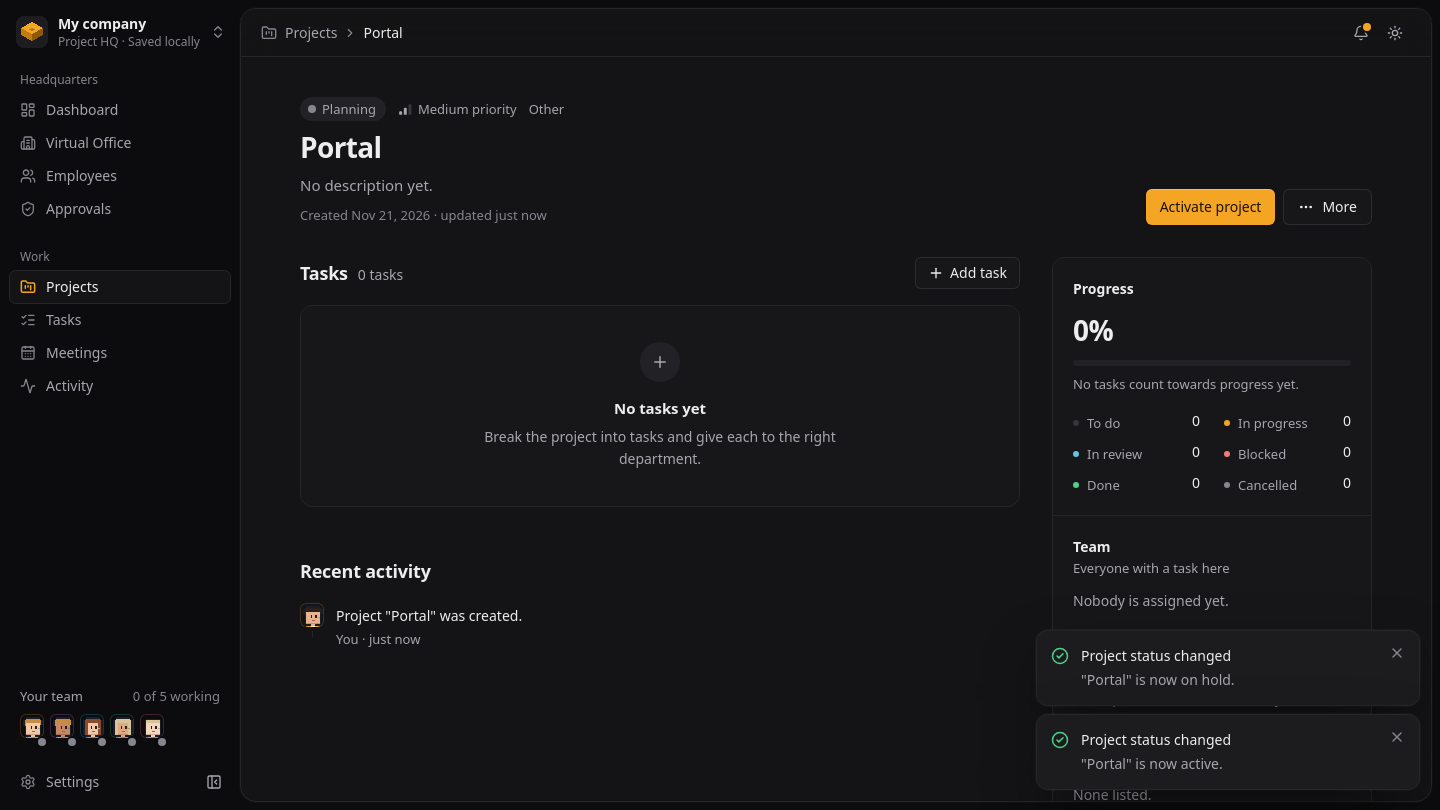
Test case: project details and lifecycle › edits project details
Click the button with aria-label "More project actions" at x=1328, y=207, box [1283,189,1372,225]
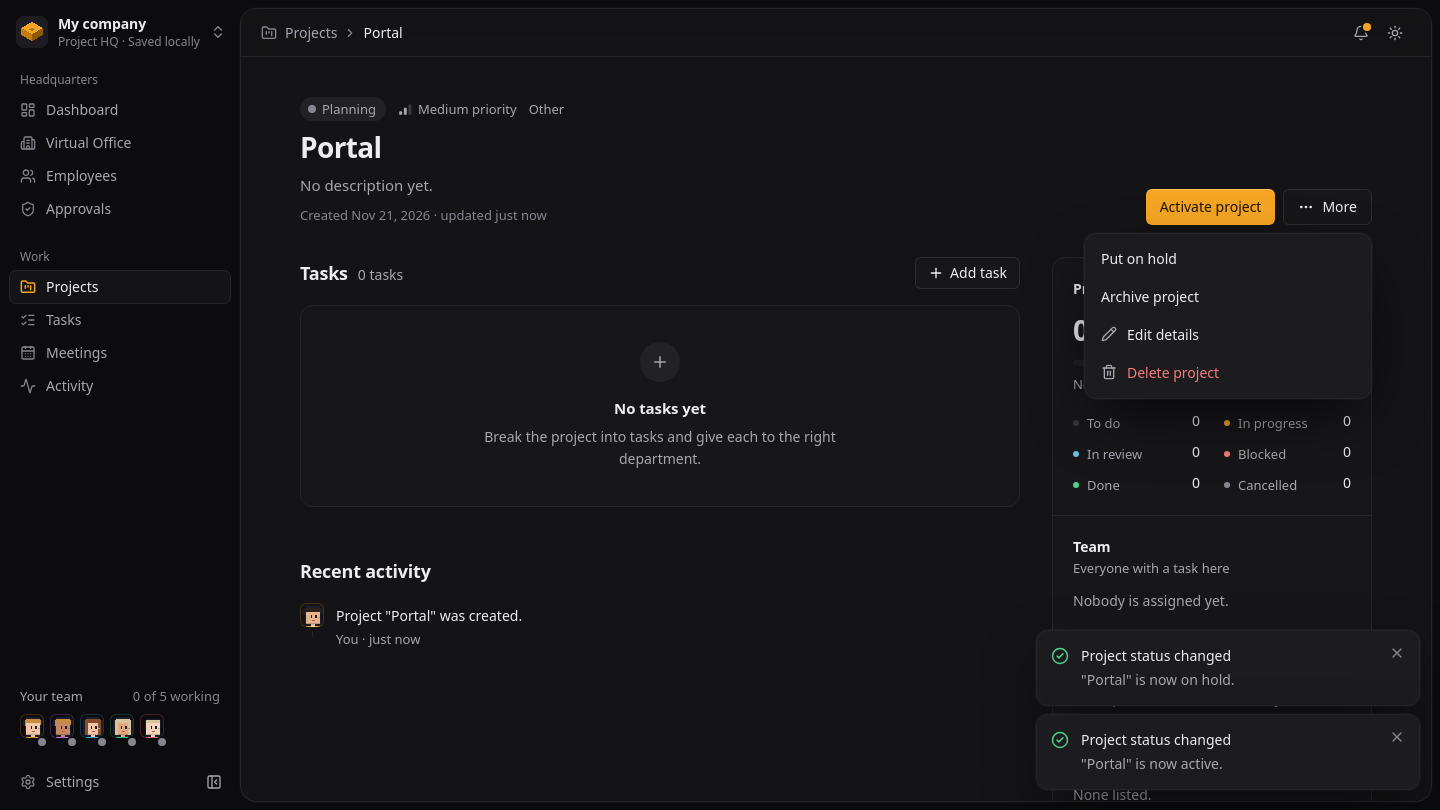
Click the menu item "Edit details" at x=1163, y=334, box [1091,316,1365,354]
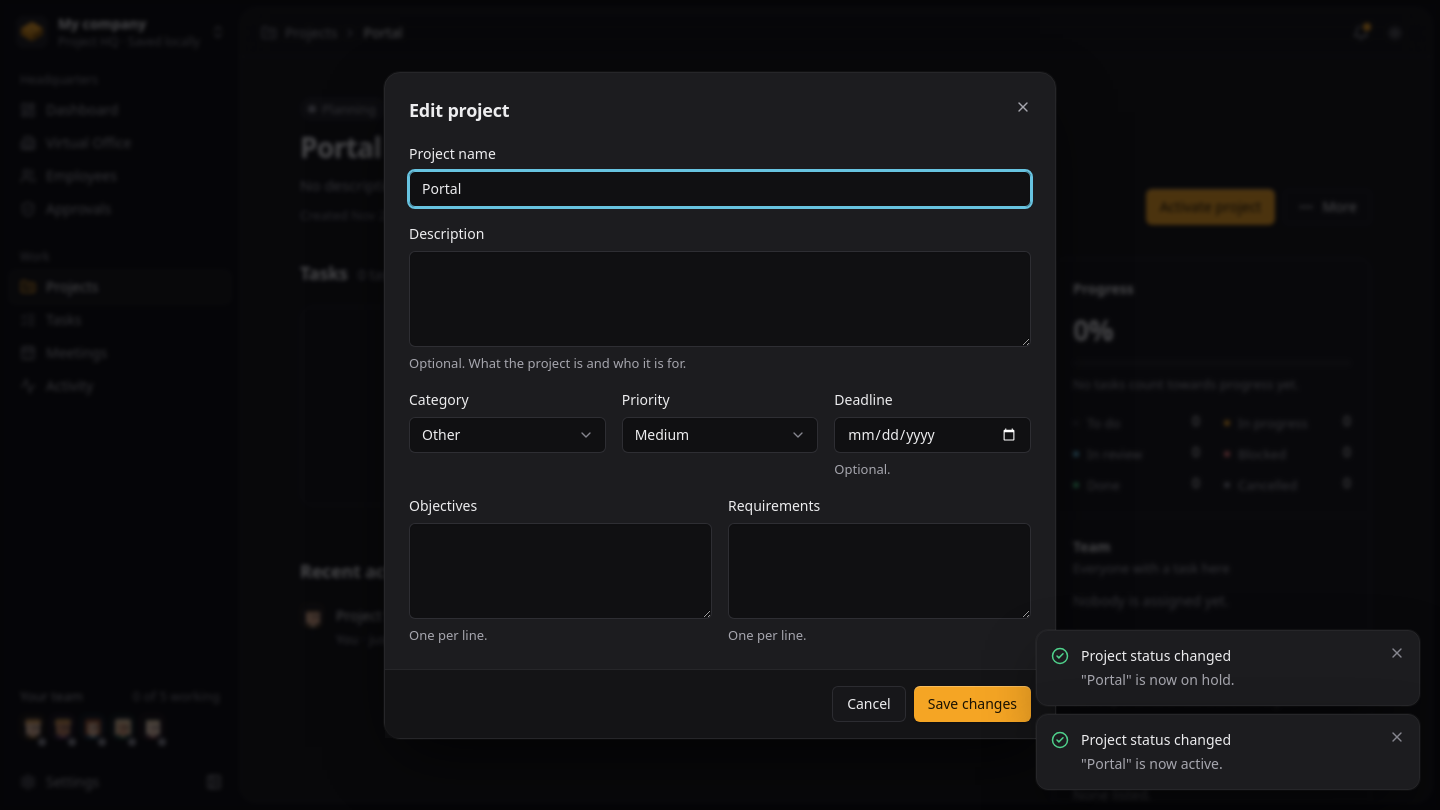
Now the field labelled "Project name" holds "Portal"
Replace the text in the field labelled "Project name" with "Customer portal" at x=720, y=188, box [409,170,1031,206]
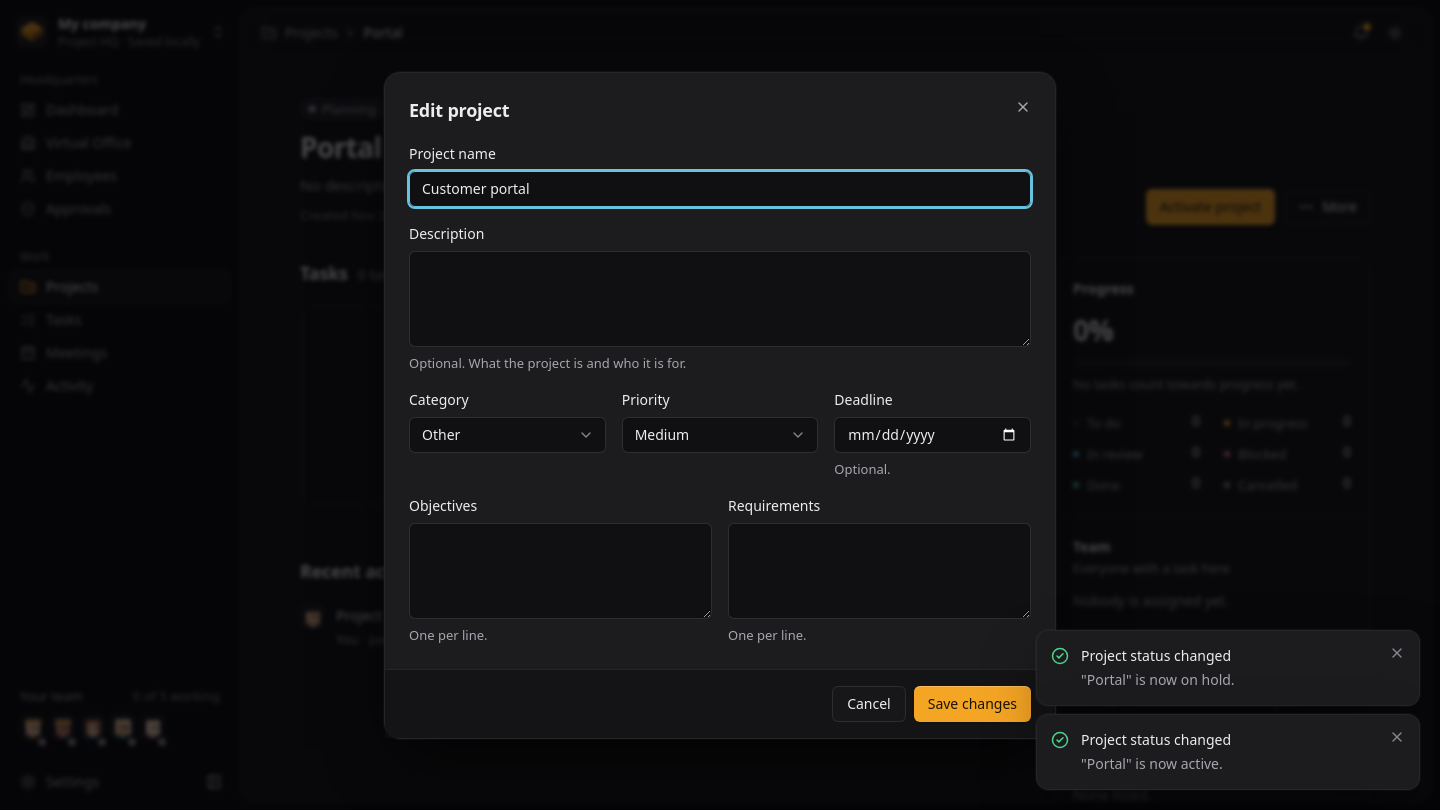
Select "Critical" in the dropdown labelled "Priority" at x=720, y=434, box [622,416,818,452]
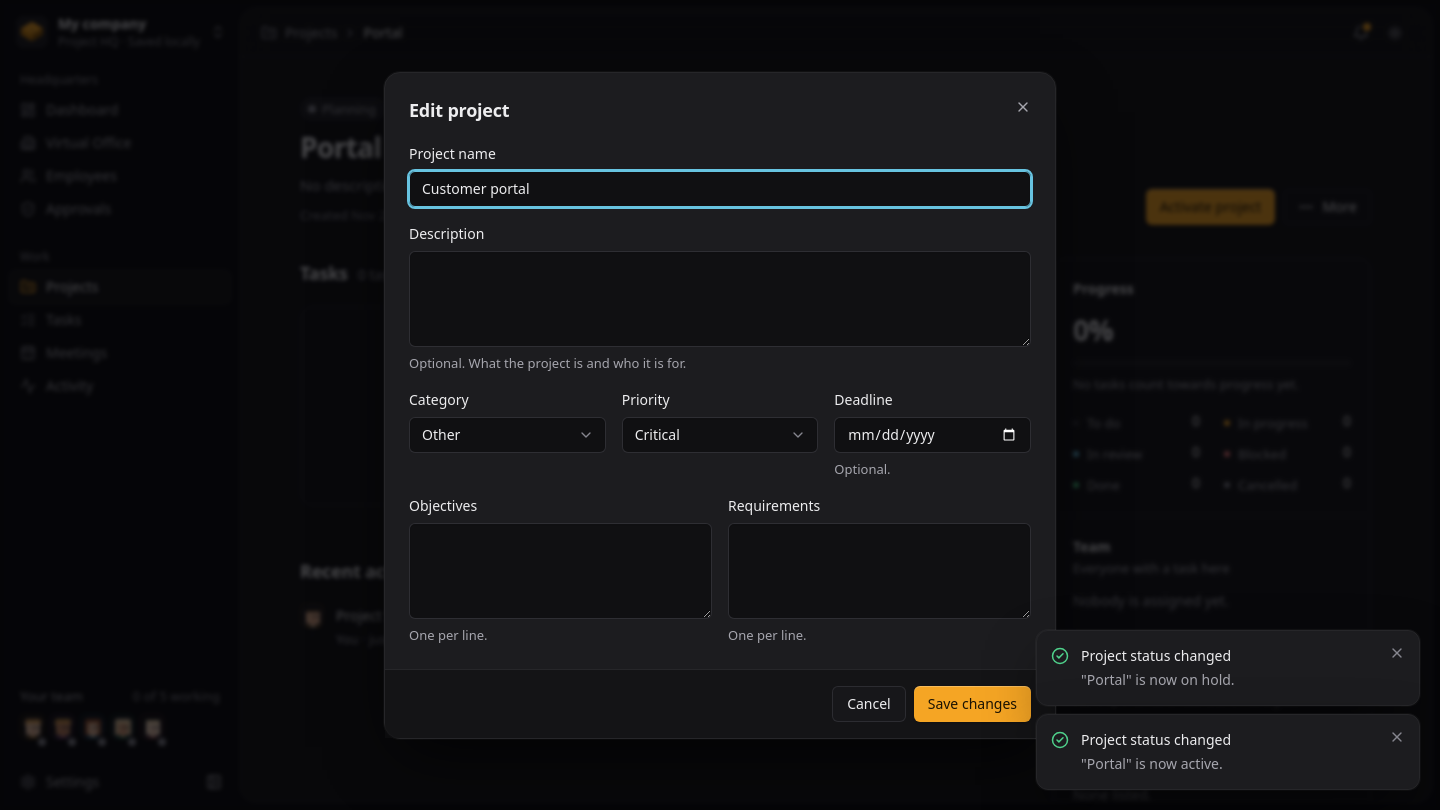
Click the button "Save changes" at x=972, y=704, box [914,686,1031,722]
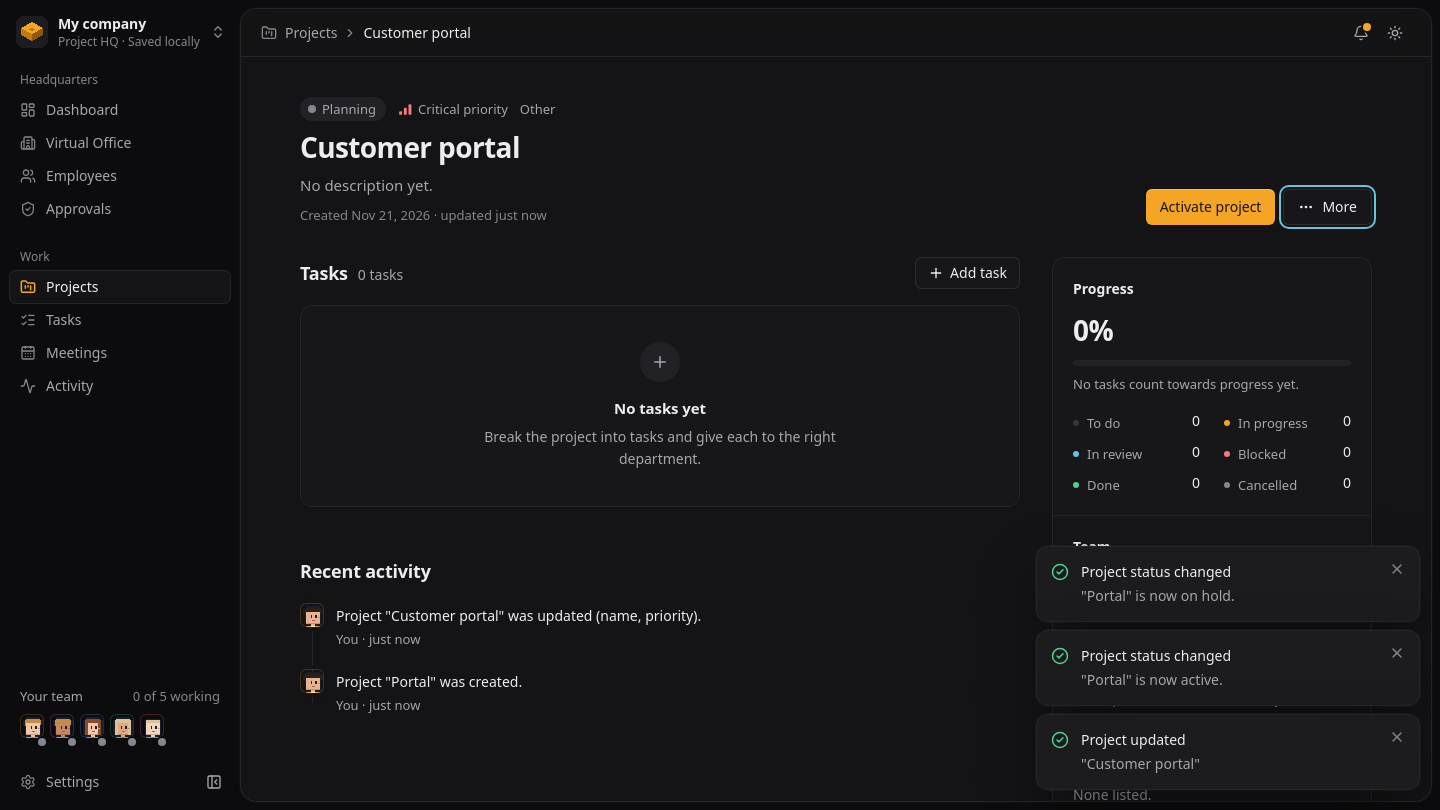
Now the heading "Customer portal" is shown, box [300,129,556,165]
